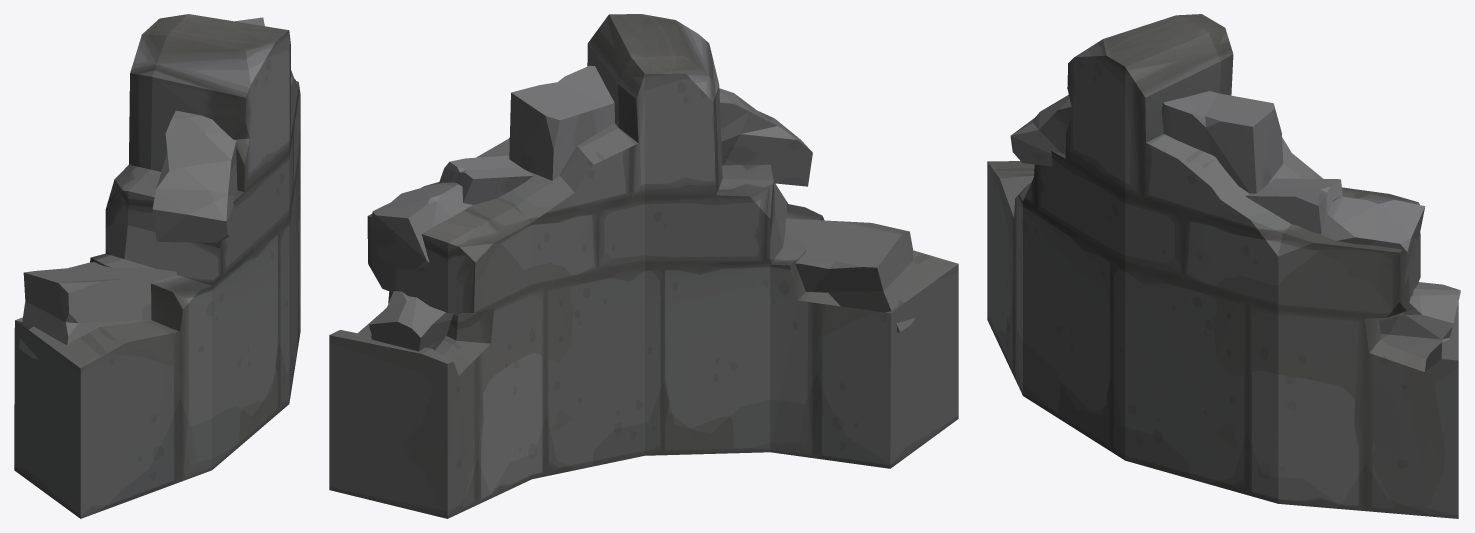
File: SM_Bld_Wall_L_Curve_Half_Damaged_04.fbx
The picture shows the model from 3 angles, left to right: view 1: azimuth 30°, elevation 25°; view 2: azimuth 150°, elevation 25°; view 3: azimuth 270°, elevation 25°; orthographic projection. The views are drawn at different scales.
Visible parts, largest first — view 1: SM_Bld_Wall_L_Curve_Half_Damaged_04; view 2: SM_Bld_Wall_L_Curve_Half_Damaged_04; view 3: SM_Bld_Wall_L_Curve_Half_Damaged_04.
Boxes of the visible parts, x1,y1,x2,y2 form: SM_Bld_Wall_L_Curve_Half_Damaged_04: (14, 14, 300, 518); SM_Bld_Wall_L_Curve_Half_Damaged_04: (329, 14, 958, 518); SM_Bld_Wall_L_Curve_Half_Damaged_04: (987, 14, 1460, 518).
Size of the model in its own units: 326 by 300 by 325.
